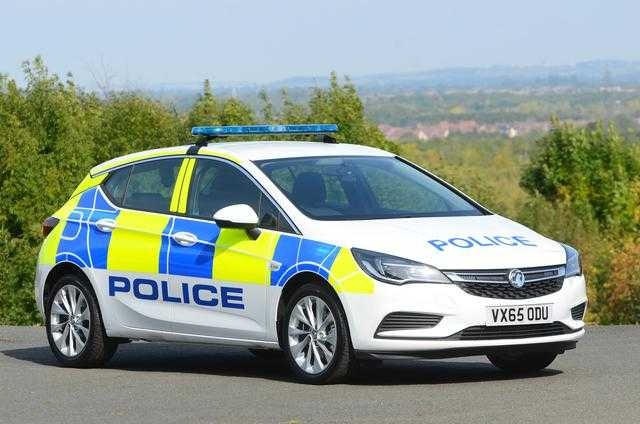Police Car: (40, 110, 640, 380)
